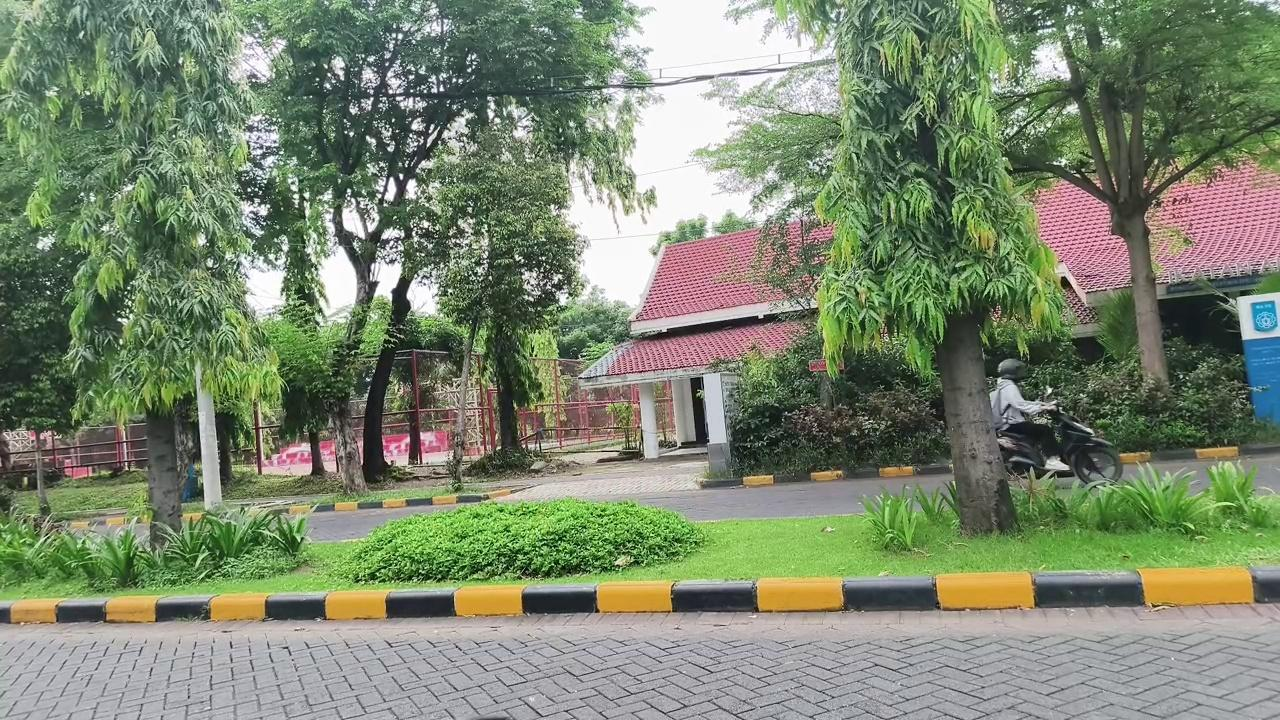Helmet: (990, 359, 1067, 470)
Motor: (1046, 406, 1122, 483)
